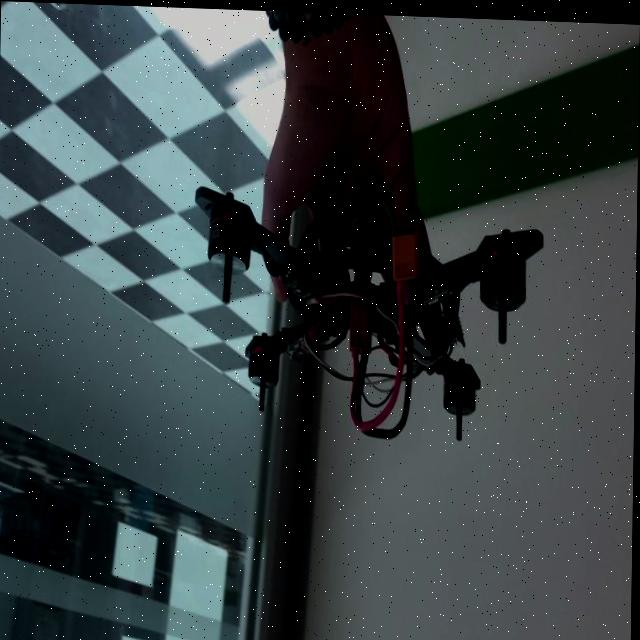drone: (196, 184, 550, 456)
